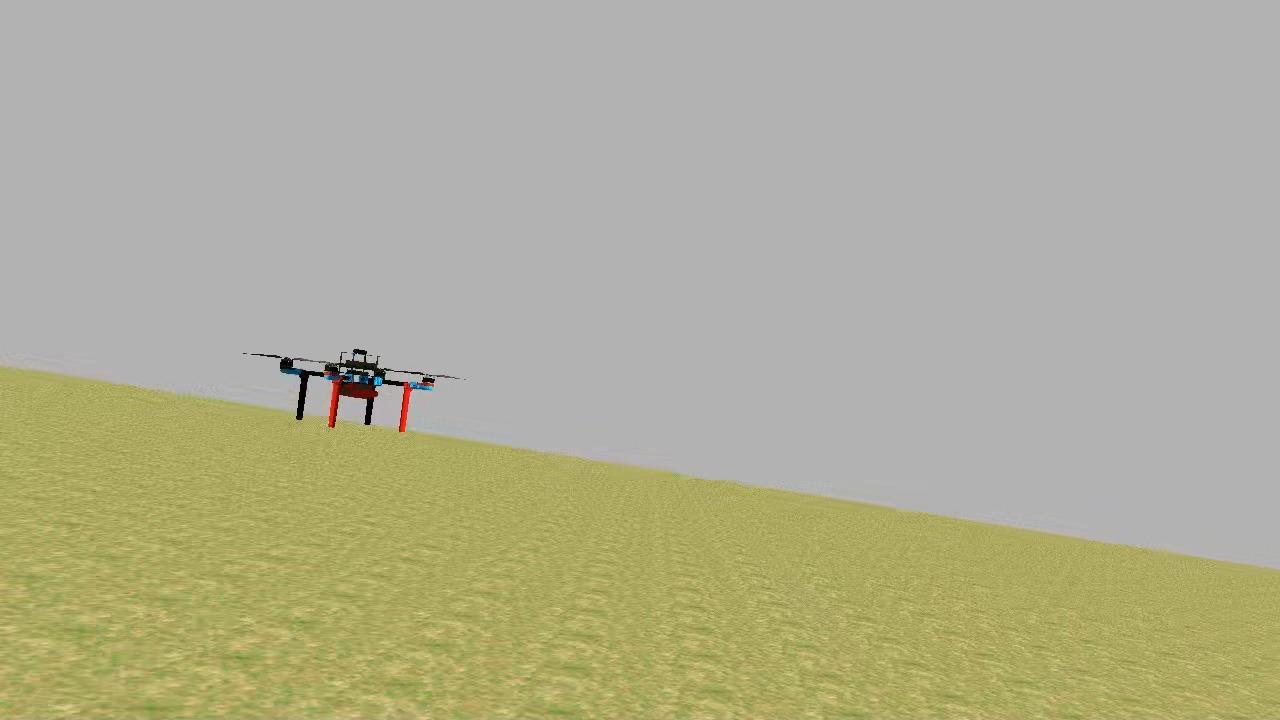UAV: (230, 332, 477, 462)
